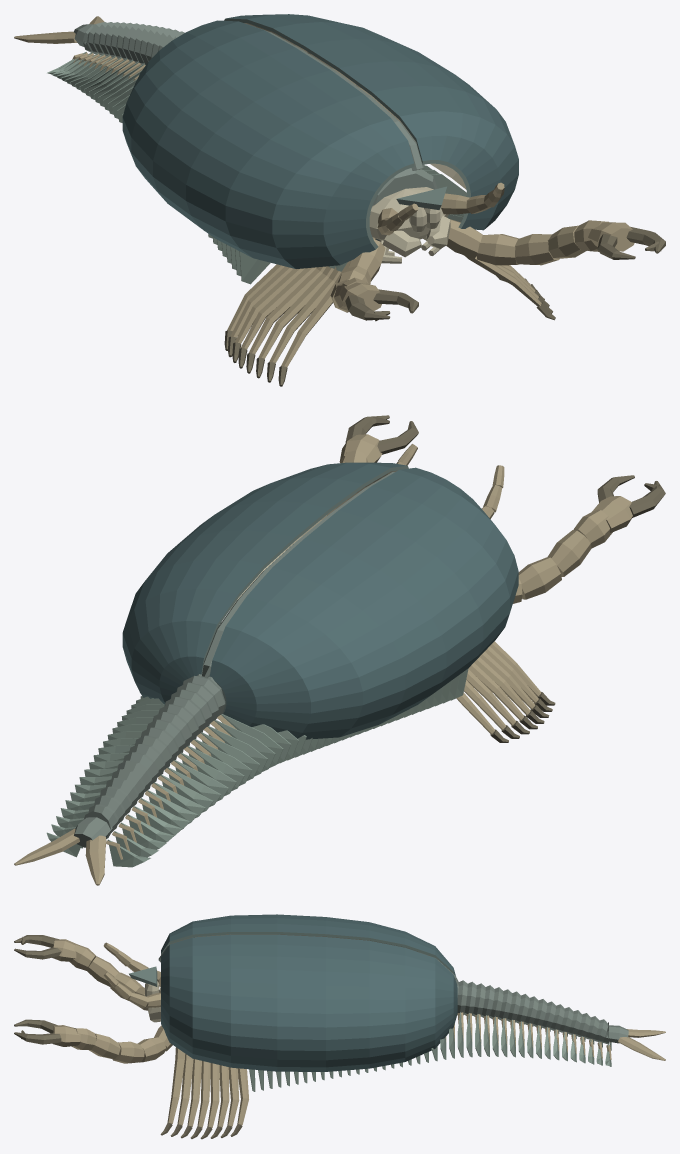
The picture shows the model from 3 angles, top to bottom: view 1: azimuth 30°, elevation 25°; view 2: azimuth 150°, elevation 25°; view 3: azimuth 270°, elevation 25°; orthographic projection. The views are drawn at different scales.
Visible parts, largest first — view 1: left-curved-carapace-valve, right-curved-carapace-valve, left-eight-anterior-walking-branches, right-articulated-grasping-maxilliped, left-fifty-serial-outer-flaps, continuous-fifty-station-trunk, left-articulated-grasping-maxilliped, head-under-anterior-aperture, left-open-pincer-fingers-and-two-terminal-teeth, right-open-pincer-fingers-and-two-terminal-teeth, right-short-segmented-antennule, left-walking-terminal-claws (+11 smaller); view 2: left-curved-carapace-valve, right-curved-carapace-valve, left-fifty-serial-outer-flaps, continuous-fifty-station-trunk, left-eight-anterior-walking-branches, right-fifty-serial-outer-flaps, left-articulated-grasping-maxilliped, left-posterior-slender-inner-branches, dorsal-valve-connection, right-open-pincer-fingers-and-two-terminal-teeth, left-open-pincer-fingers-and-two-terminal-teeth, left-walking-terminal-claws (+5 smaller); view 3: right-curved-carapace-valve, left-curved-carapace-valve, right-eight-anterior-walking-branches, continuous-fifty-station-trunk, right-fifty-serial-outer-flaps, right-articulated-grasping-maxilliped, left-articulated-grasping-maxilliped, right-posterior-slender-inner-branches, right-open-pincer-fingers-and-two-terminal-teeth, left-open-pincer-fingers-and-two-terminal-teeth, right-short-segmented-antennule, right-walking-terminal-claws (+5 smaller).
Boxes of the visible parts, x1,y1,x2,y2 form: left-curved-carapace-valve: (122, 20, 414, 268); right-curved-carapace-valve: (224, 14, 518, 230); left-eight-anterior-walking-branches: (227, 237, 375, 367); right-articulated-grasping-maxilliped: (446, 219, 608, 265); left-fifty-serial-outer-flaps: (47, 52, 347, 284); continuous-fifty-station-trunk: (82, 22, 437, 240); left-articulated-grasping-maxilliped: (330, 239, 385, 312); head-under-anterior-aperture: (369, 187, 448, 240); left-open-pincer-fingers-and-two-terminal-teeth: (345, 289, 418, 321); right-open-pincer-fingers-and-two-terminal-teeth: (597, 226, 665, 259); right-short-segmented-antennule: (441, 182, 504, 214); left-walking-terminal-claws: (224, 330, 287, 386); left-curved-carapace-valve: (209, 467, 518, 739); right-curved-carapace-valve: (122, 462, 408, 704); left-fifty-serial-outer-flaps: (108, 668, 468, 867); continuous-fifty-station-trunk: (83, 673, 225, 838); left-eight-anterior-walking-branches: (456, 641, 541, 734); right-fifty-serial-outer-flaps: (46, 622, 221, 857); left-articulated-grasping-maxilliped: (513, 509, 612, 603); left-posterior-slender-inner-branches: (106, 715, 236, 859); dorsal-valve-connection: (202, 471, 396, 677); right-open-pincer-fingers-and-two-terminal-teeth: (345, 415, 418, 454); left-open-pincer-fingers-and-two-terminal-teeth: (597, 475, 665, 517); left-walking-terminal-claws: (490, 692, 555, 742); right-curved-carapace-valve: (161, 934, 457, 1071); left-curved-carapace-valve: (161, 914, 455, 975); right-eight-anterior-walking-branches: (167, 1047, 248, 1128); continuous-fifty-station-trunk: (457, 980, 608, 1044); right-fifty-serial-outer-flaps: (249, 1012, 611, 1091); right-articulated-grasping-maxilliped: (71, 1025, 172, 1063); left-articulated-grasping-maxilliped: (69, 944, 148, 1010); right-posterior-slender-inner-branches: (445, 1012, 611, 1059); right-open-pincer-fingers-and-two-terminal-teeth: (14, 1019, 61, 1044); left-open-pincer-fingers-and-two-terminal-teeth: (14, 935, 61, 959); right-short-segmented-antennule: (104, 972, 160, 1007); right-walking-terminal-claws: (160, 1122, 242, 1139).
Size of the model in its own units: 0.0455 by 0.0317 by 0.12.
